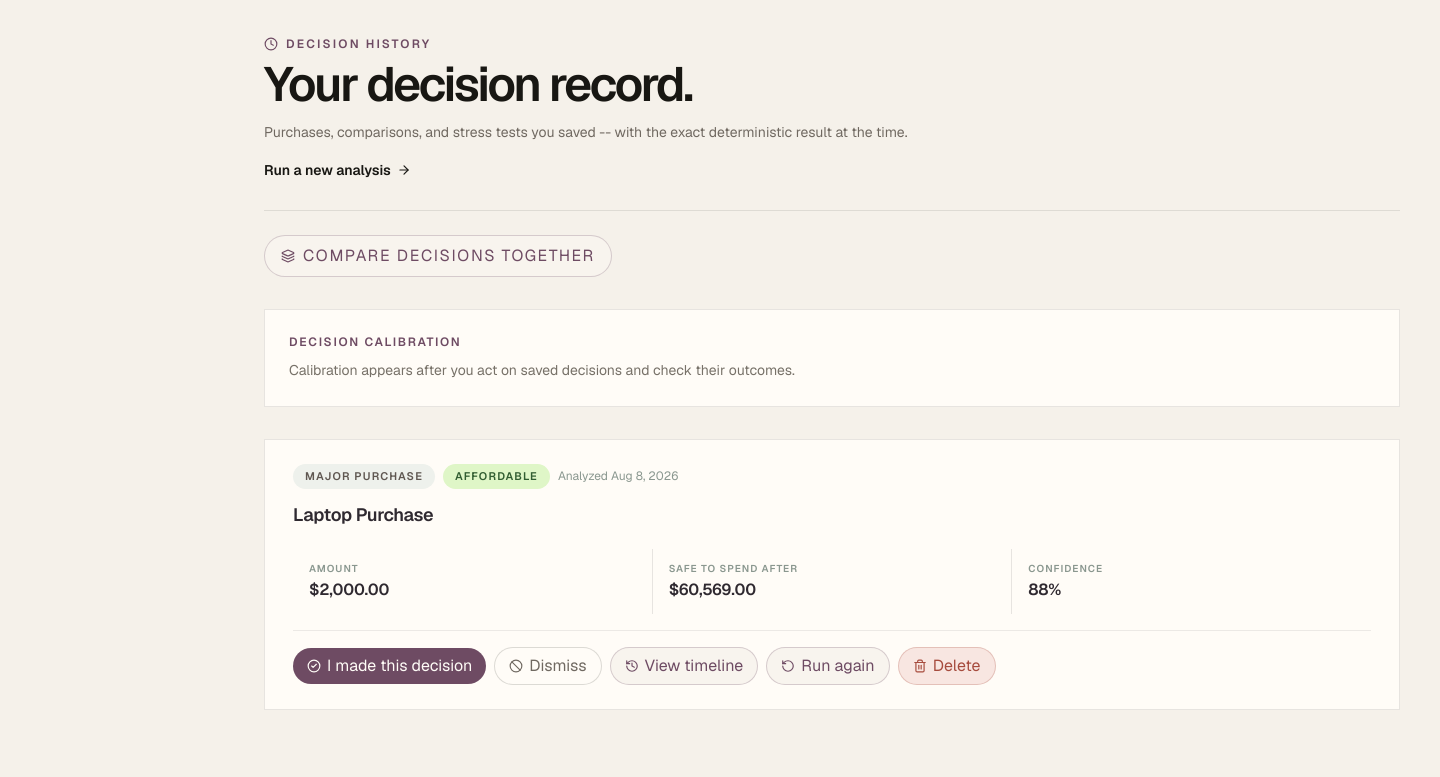
Test: Decision history page › re-runs a saved decision and shows a then-vs-now comparison
The width and height of the screenshot is (1440, 777).
Expected: the heading "Laptop Purchase" is shown, [293,502,433,526]
What coordinates should you click on to do the following:
click the button "Run again"
I would click on:
 (828, 666)
Its box is [766,646,890,684].
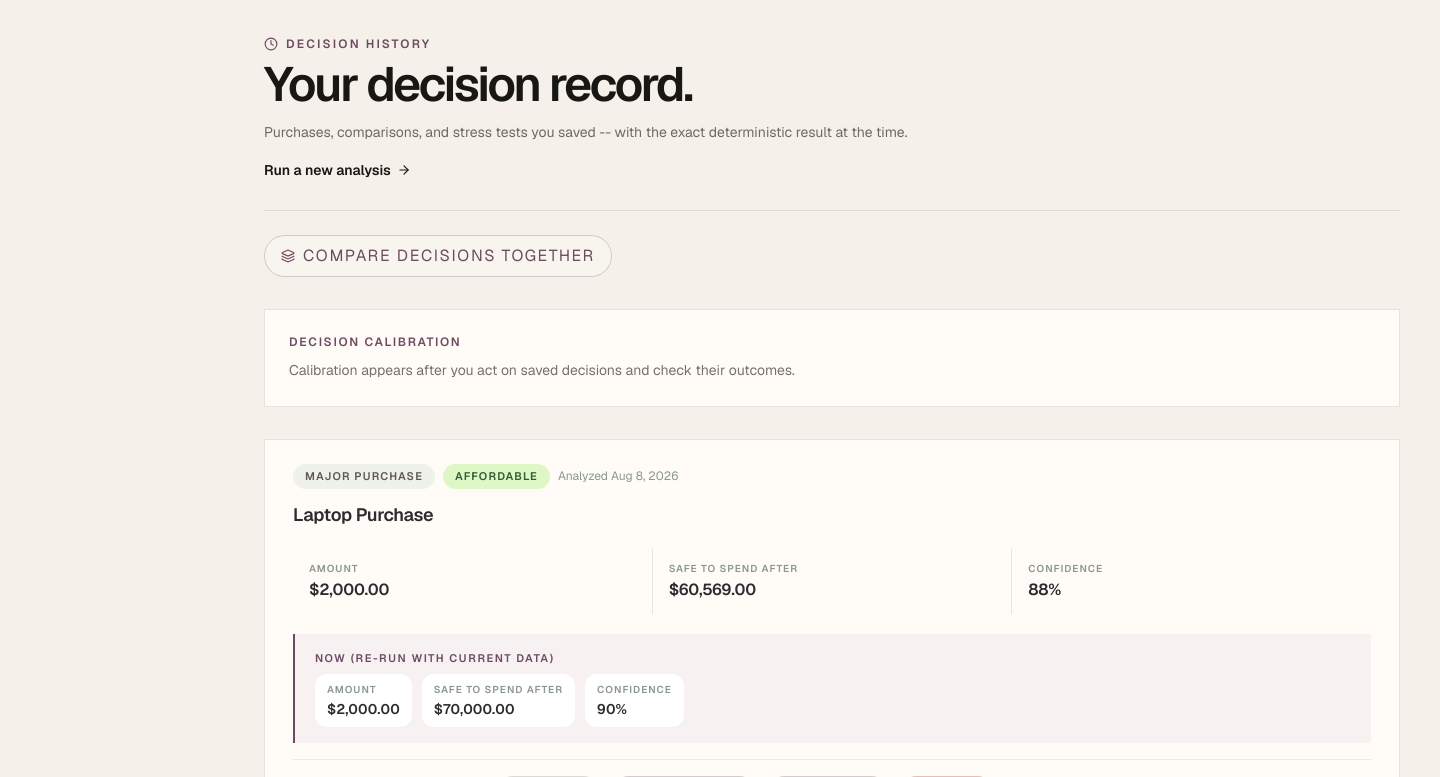
Expected: the element with test id "decision-rerun-result" shows "$70,000.00", [434,700,514,718]
